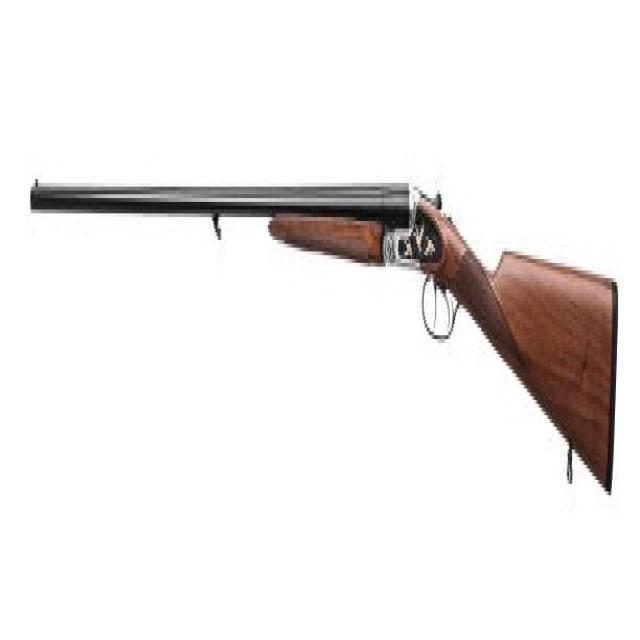rifle: (29, 150, 624, 512)
